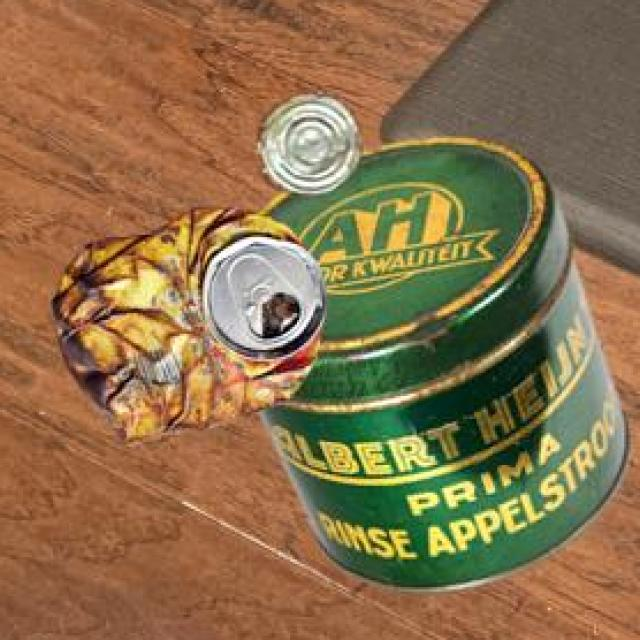logam: (252, 135, 627, 591), (49, 204, 323, 441), (254, 91, 358, 190)
